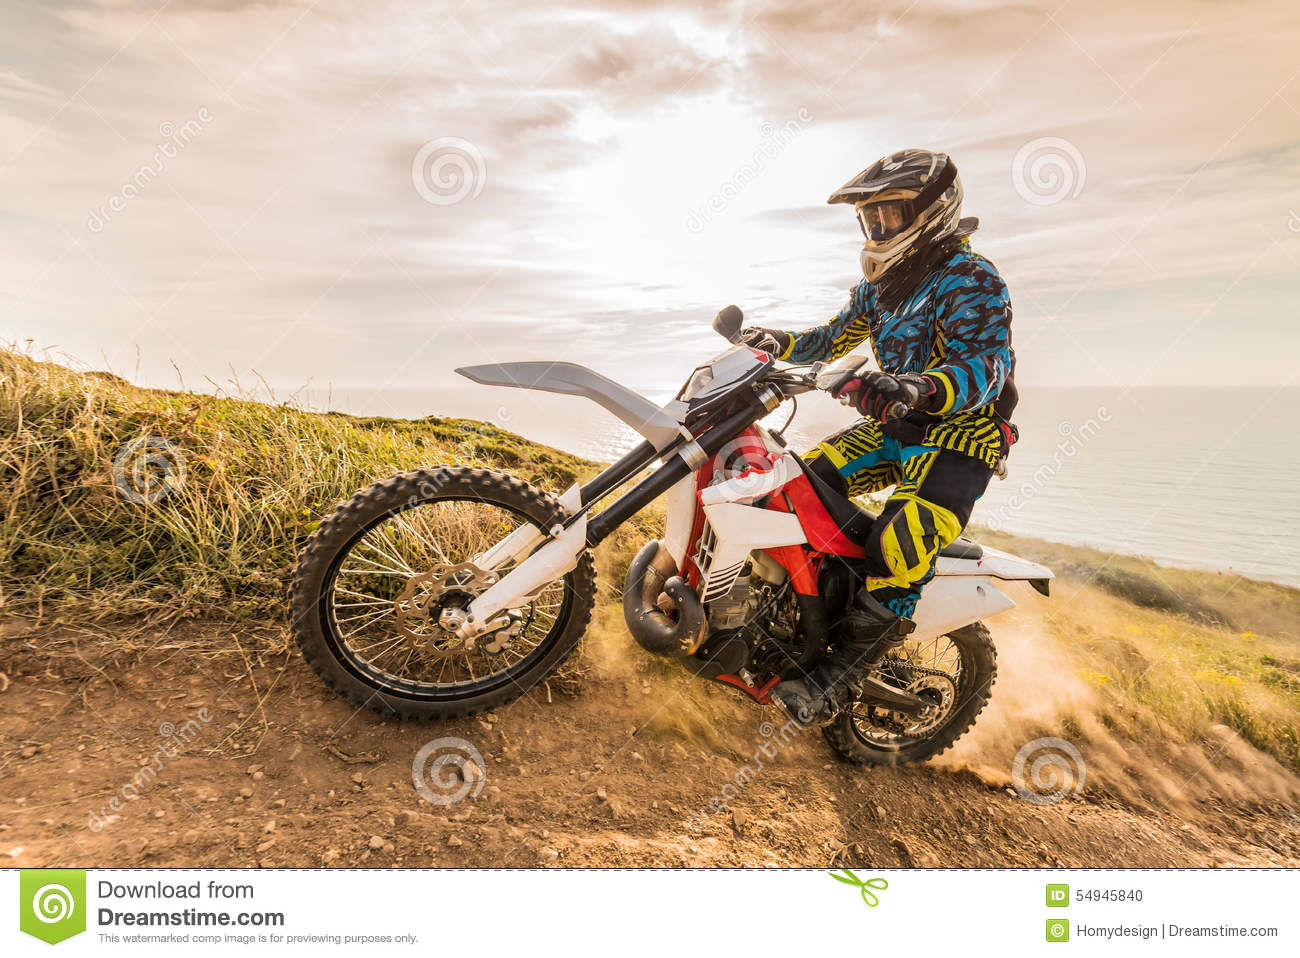helmet: (845, 158, 968, 270)
